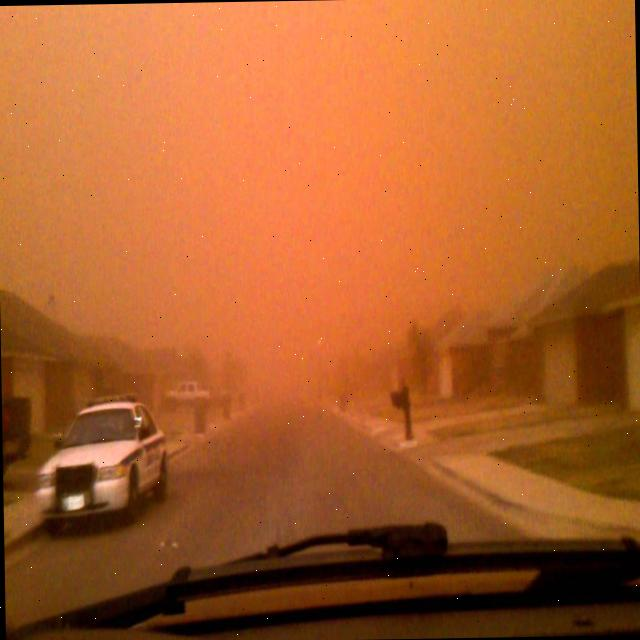car: (38, 396, 171, 530), (167, 376, 212, 408)
